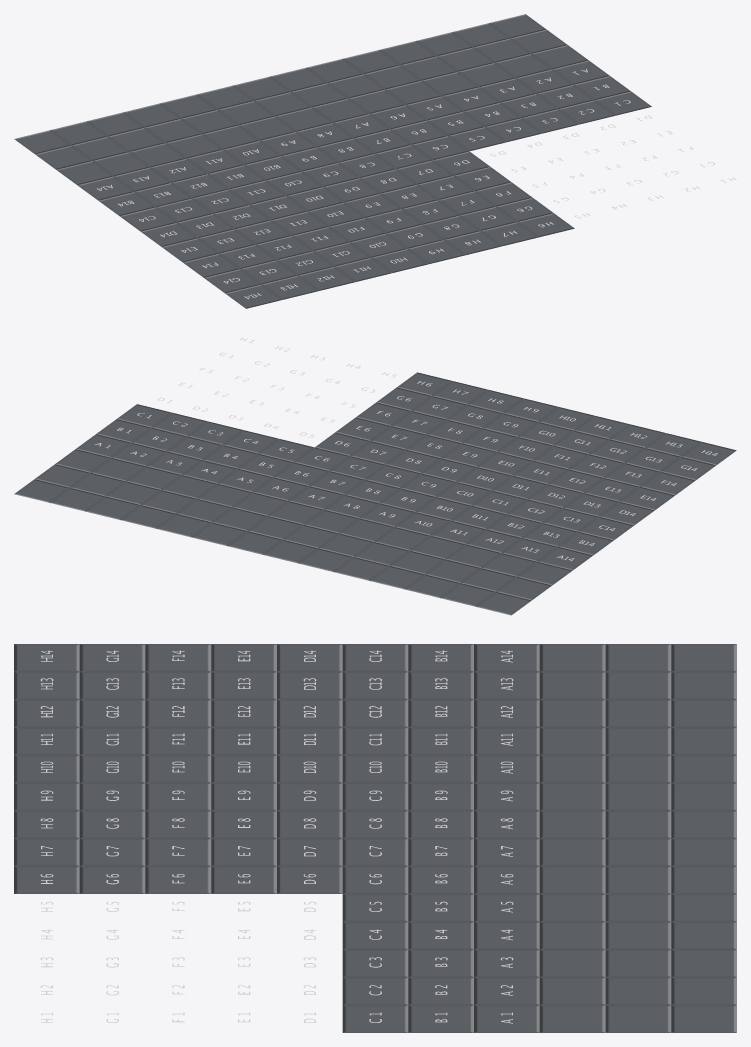
Rendered from Parking_Tutorial_Tiles_000.fbx.
3 views of the same model, one above another, from view 1: azimuth 30°, elevation 25°; view 2: azimuth 150°, elevation 25°; view 3: azimuth 270°, elevation 25° (orthographic). The views are drawn at different scales.
Parts seen in each view (by area): view 1: Map_Coordinates, Tile_B_11, Tile_A_19, Tile_A_20, Tile_A_42, Tile_A_49, Tile_C_03, Tile_E_07, Tile_F_08, Tile_C_13, Tile_F_14, Tile_A_18 (+118 smaller); view 2: Map_Coordinates, Tile_B_01, Tile_E_07, Tile_G_07, Tile_C_13, Tile_E_13, Tile_A_16, Tile_A_19, Tile_A_22, Tile_A_25, Tile_A_28, Tile_A_30 (+118 smaller); view 3: Map_Coordinates, Tile_A_18, Tile_A_21, Tile_A_25, Tile_A_17, Tile_A_22, Tile_A_26, Tile_A_32, Tile_A_35, Tile_A_39, Tile_A_31, Tile_A_36 (+118 smaller).
Part boxes in pixels (x1,y1,x2,y2): Map_Coordinates: [97, 69, 736, 299]; Tile_B_11: [208, 165, 265, 189]; Tile_A_19: [202, 125, 259, 149]; Tile_A_20: [239, 116, 296, 140]; Tile_A_42: [510, 29, 567, 53]; Tile_A_49: [233, 76, 290, 100]; Tile_C_03: [522, 109, 578, 133]; Tile_E_07: [418, 176, 474, 199]; Tile_F_08: [402, 200, 459, 224]; Tile_C_13: [156, 198, 213, 222]; Tile_F_14: [183, 253, 239, 277]; Tile_A_18: [166, 134, 222, 158]; Map_Coordinates: [95, 337, 717, 561]; Tile_B_01: [96, 419, 151, 442]; Tile_E_07: [371, 426, 426, 449]; Tile_G_07: [412, 396, 467, 419]; Tile_C_13: [543, 508, 598, 531]; Tile_E_13: [584, 478, 639, 501]; Tile_A_16: [481, 553, 536, 576]; Tile_A_19: [375, 527, 430, 550]; Tile_A_22: [268, 501, 323, 524]; Tile_A_25: [162, 475, 217, 498]; Tile_A_28: [55, 449, 110, 472]; Tile_A_30: [461, 568, 516, 591]; Map_Coordinates: [40, 650, 513, 1023]; Tile_A_18: [539, 727, 605, 755]; Tile_A_21: [539, 810, 605, 838]; Tile_A_25: [539, 921, 605, 949]; Tile_A_17: [539, 699, 605, 727]; Tile_A_22: [539, 838, 605, 866]; Tile_A_26: [539, 949, 605, 977]; Tile_A_32: [605, 727, 671, 755]; Tile_A_35: [605, 810, 671, 838]; Tile_A_39: [605, 921, 671, 949]; Tile_A_31: [605, 699, 671, 727]; Tile_A_36: [605, 838, 671, 866].
Size of the model in its own units: 1400 by 1.64 by 1100.
